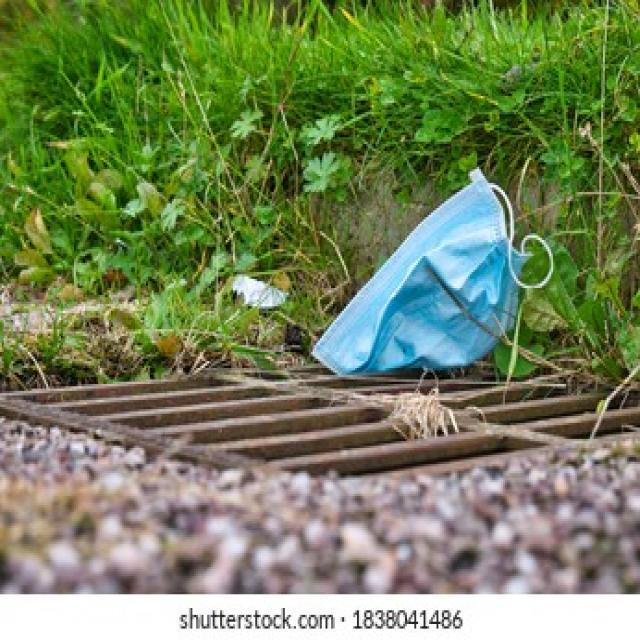face mask: (323, 176, 542, 382)
